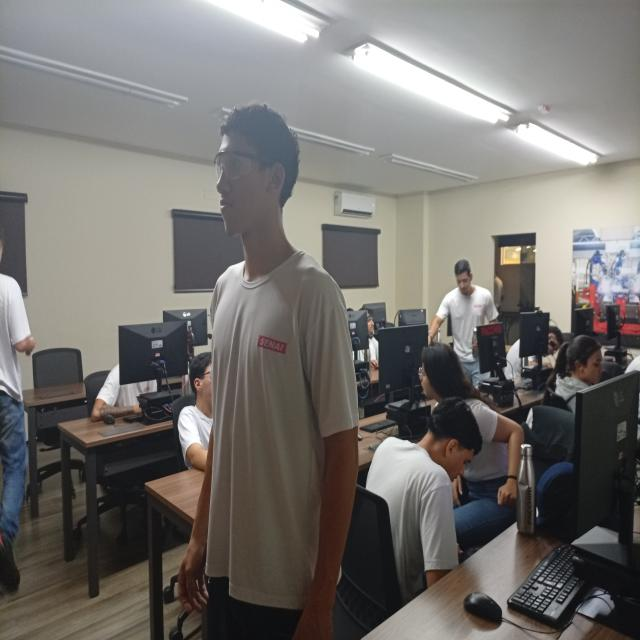oculos-epi: (215, 151, 275, 180)
sem_oculos: (457, 439, 471, 472), (412, 362, 435, 382), (588, 357, 606, 371), (194, 374, 212, 387), (453, 279, 473, 287)
